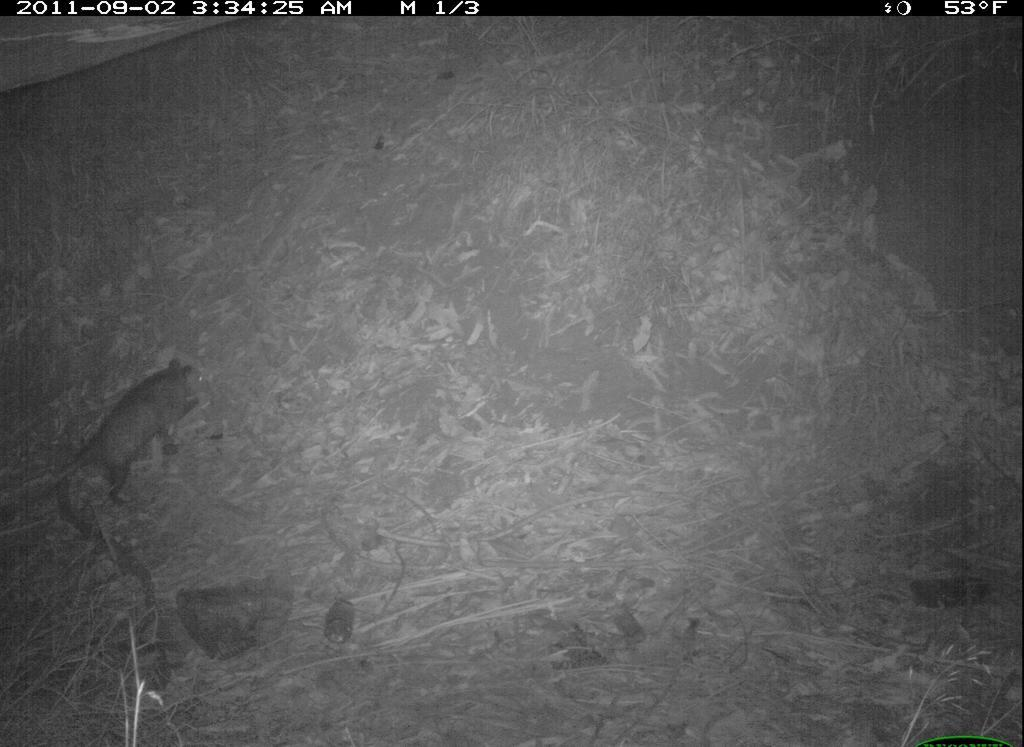opossum: (25, 349, 219, 516)
